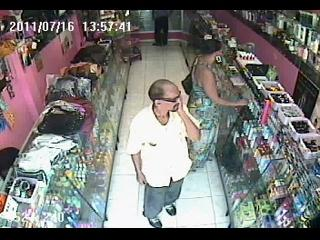Normal: (126, 79, 202, 227), (186, 39, 249, 168), (152, 10, 172, 46)
